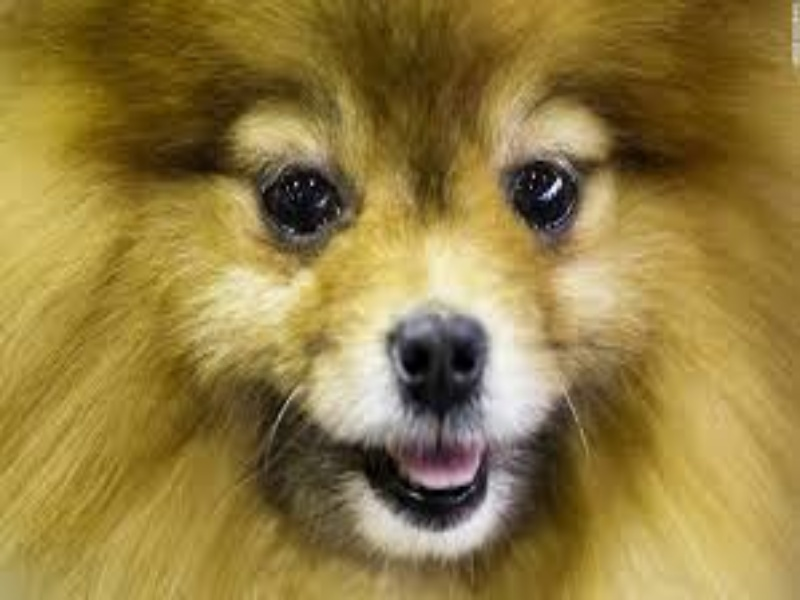dog: (98, 11, 712, 590)
